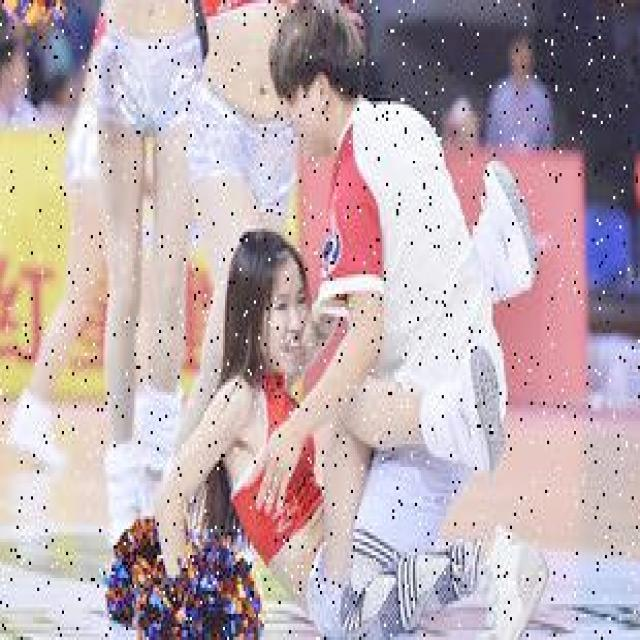fall: (182, 252, 384, 594)
